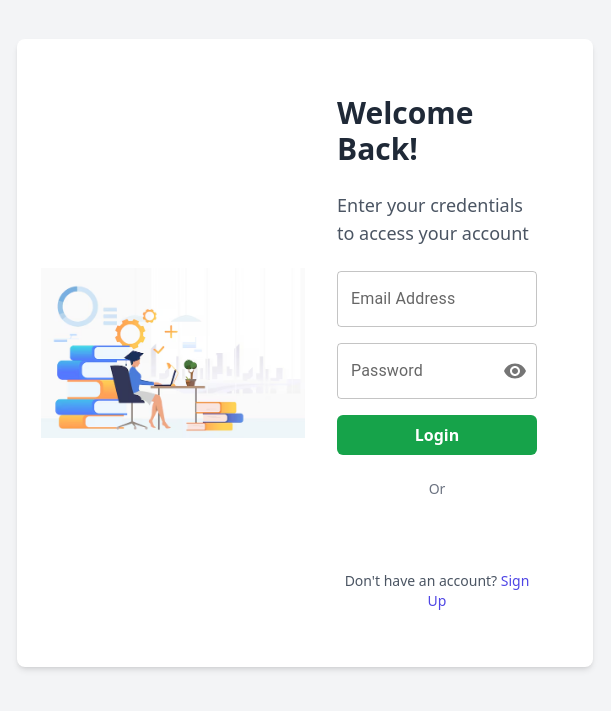
Scenario: LoginForm Component › Form Validation › shows validation error for empty email
This screenshot has width=611, height=711.
Click the button "Login": (437, 435) [337, 415, 537, 455]
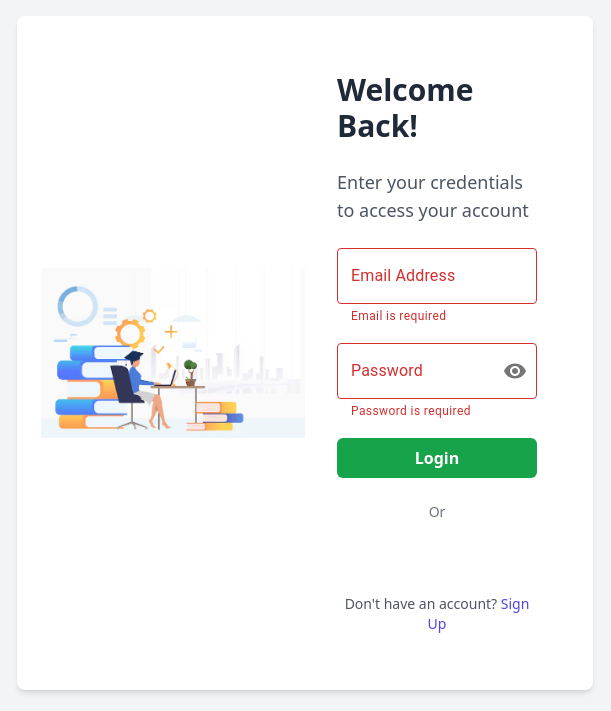
Expected: the text "Email is required" is shown, [351, 309, 446, 323]
